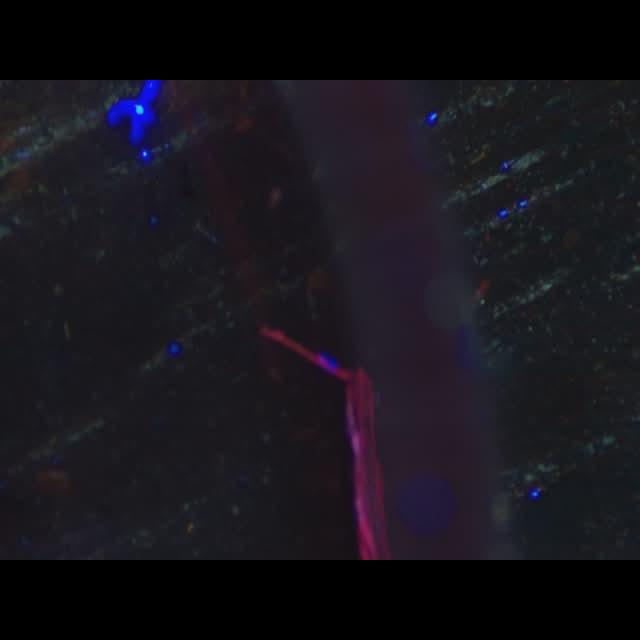Fibre: (256, 324, 354, 380)
